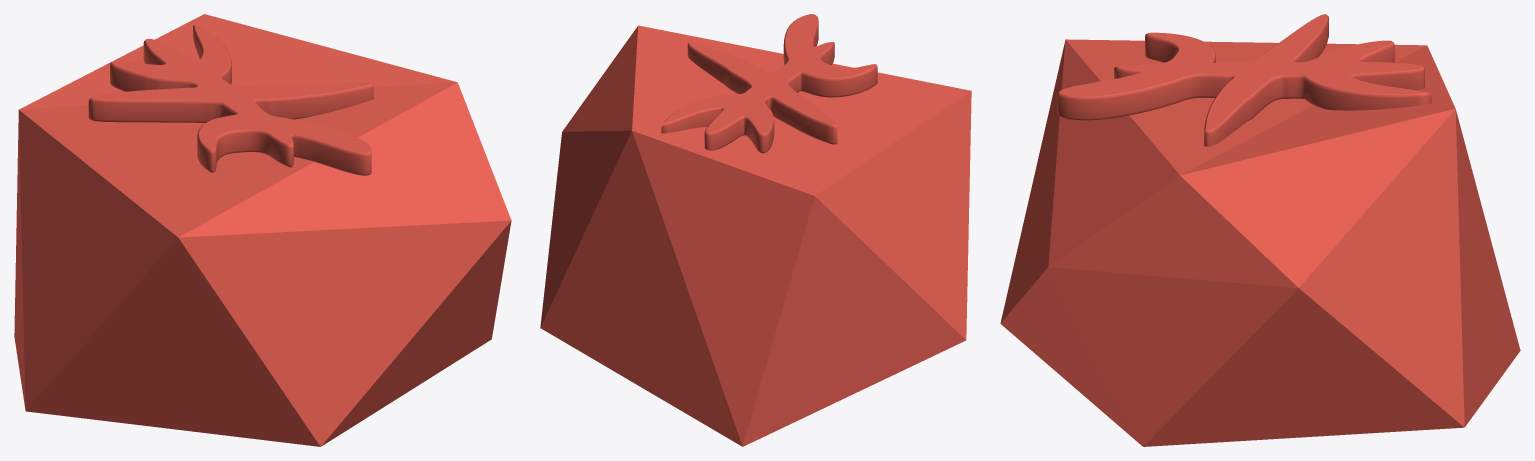
Rendered from dorduncu.fbx.
3 views of the same model, side by side, from view 1: azimuth 30°, elevation 25°; view 2: azimuth 150°, elevation 25°; view 3: azimuth 270°, elevation 25° (orthographic). The views are drawn at different scales.
Parts seen in each view (by area): view 1: Icosphere.003, Curve.003; view 2: Icosphere.003, Curve.003; view 3: Icosphere.003, Curve.003.
Part boxes in pixels (x1,y1,x2,y2): Icosphere.003: (14, 14, 511, 446); Curve.003: (88, 25, 373, 175); Icosphere.003: (540, 25, 971, 446); Curve.003: (661, 14, 877, 153); Icosphere.003: (1000, 39, 1520, 446); Curve.003: (1057, 14, 1431, 146).
Size of the model in its own units: 258 by 174 by 250.
